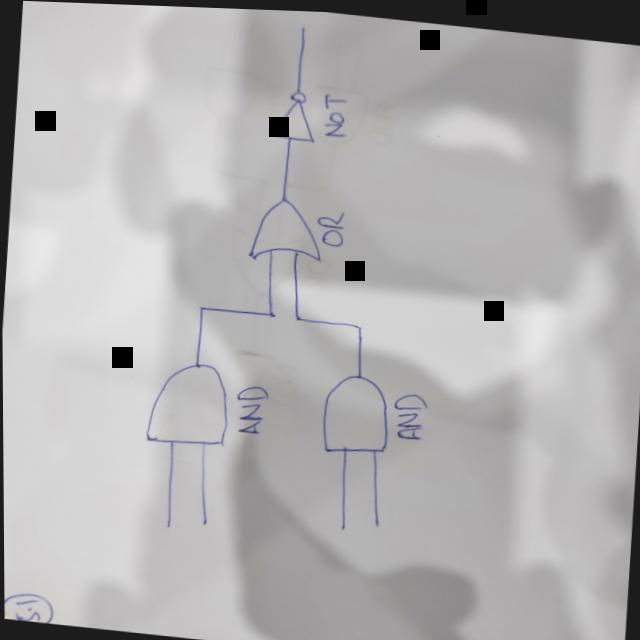junction: (347, 318, 366, 331), (191, 300, 208, 314), (262, 307, 276, 318), (289, 312, 301, 322)
terminal: (294, 19, 312, 38), (335, 521, 346, 531), (196, 516, 208, 525), (369, 517, 379, 527), (160, 520, 170, 529)
text: (387, 388, 430, 442), (230, 382, 266, 435), (316, 90, 348, 137), (312, 205, 345, 246)
